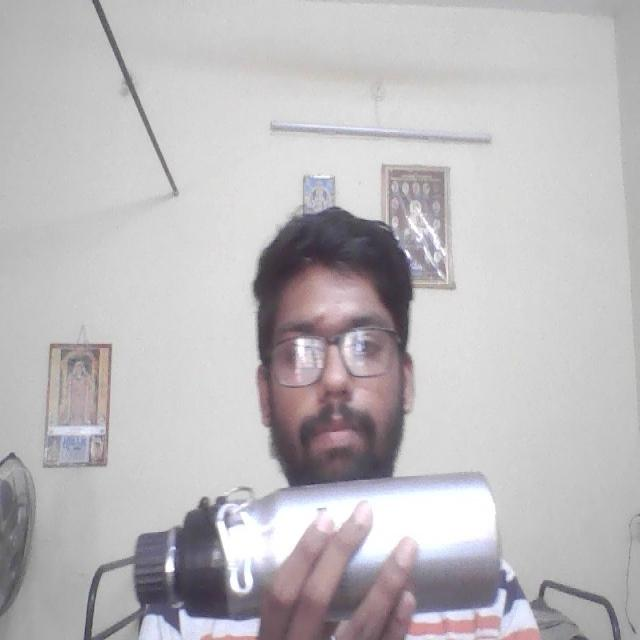Drinking: (119, 465, 510, 622)
